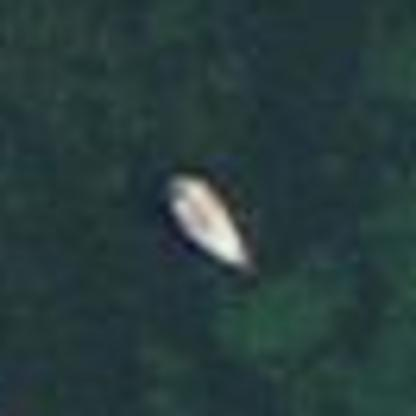ship: (145, 162, 270, 289)
